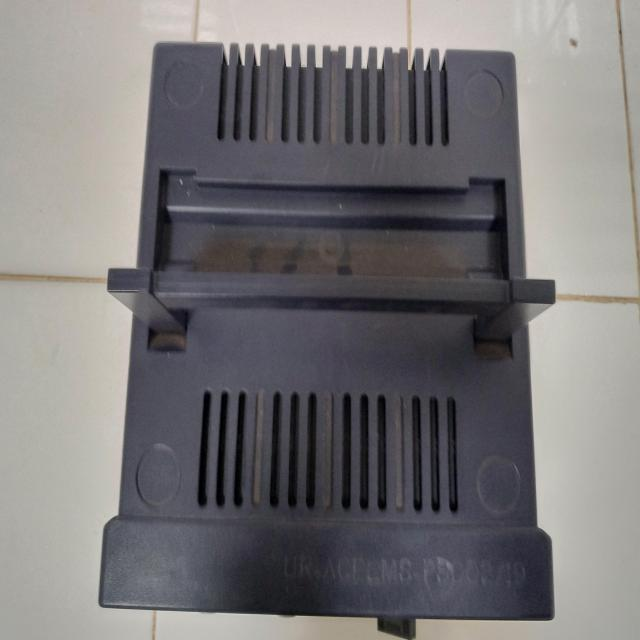DC Constant Power Supply 0-600V: (99, 32, 561, 630)
